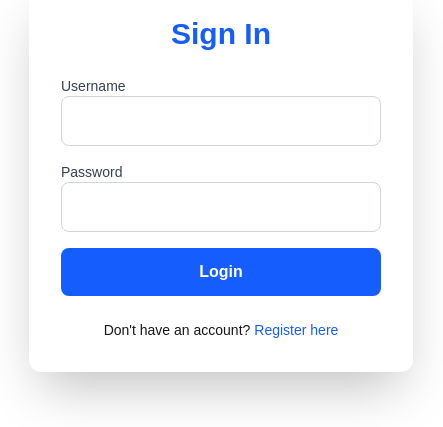
Scenario: AuthForm › renders in Login mode by default and allows switching to Register mode
This screenshot has width=443, height=427.
Check: the heading "Sign In" is shown, box 171,17 -> 271,50
Check: the button "Login" is shown, box 61,248 -> 381,296
Note: Click the switch button
What coordinates should you click on to do the following:
click the button "Register here"
I would click on:
 (296, 330)
Its box is 254,320 -> 338,340.
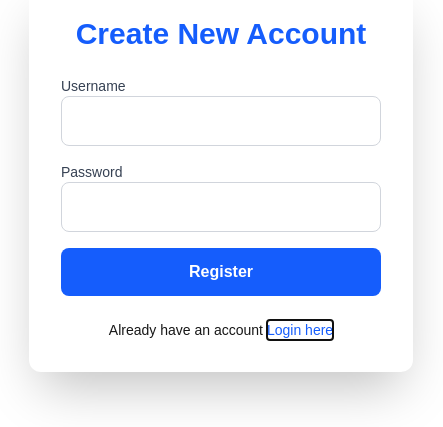
Check: the heading "Create New Account" is shown, box 61,16 -> 381,52
Check: the button "Register" is shown, box 61,248 -> 381,296
